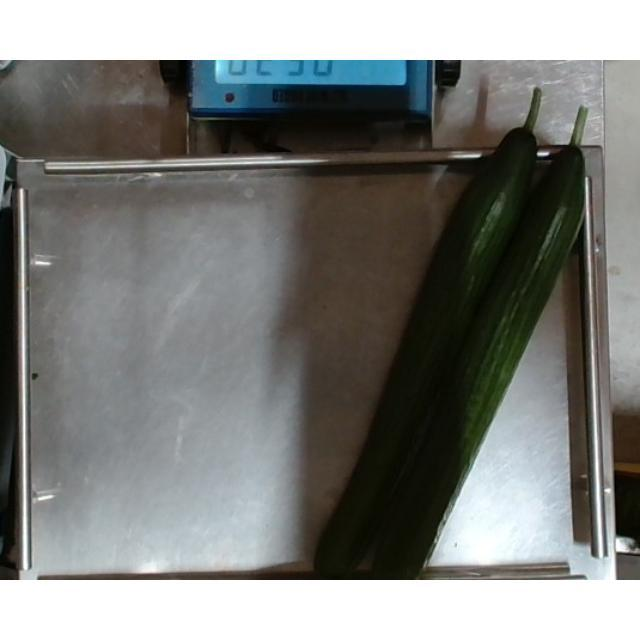cucumber: (309, 84, 543, 580), (375, 102, 591, 580)
